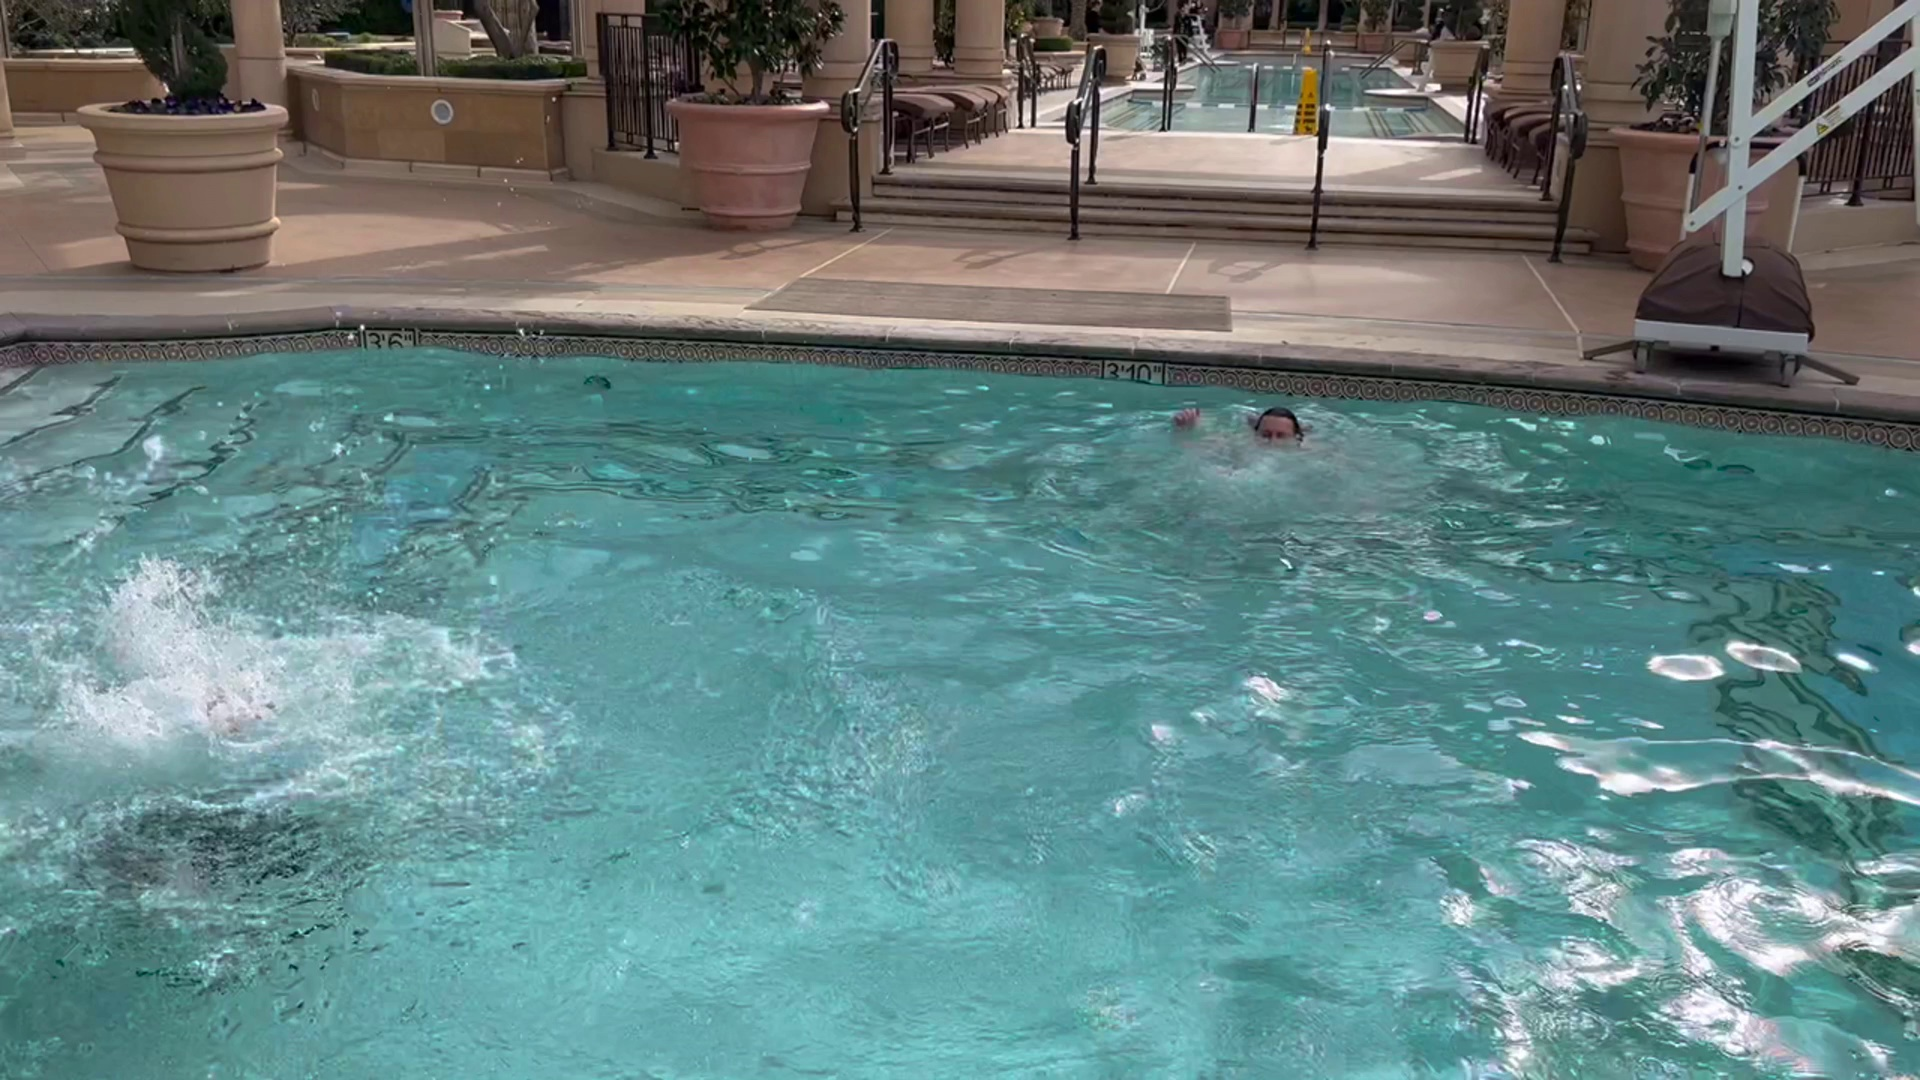danger: (3, 510, 538, 844)
